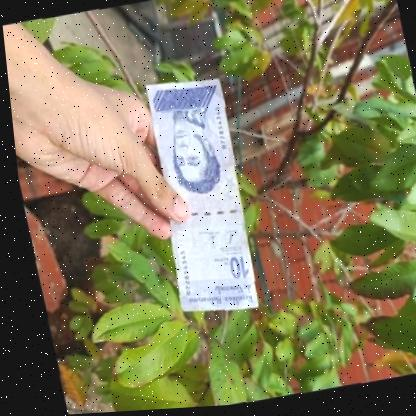ten-front-vef: (127, 71, 267, 324)
